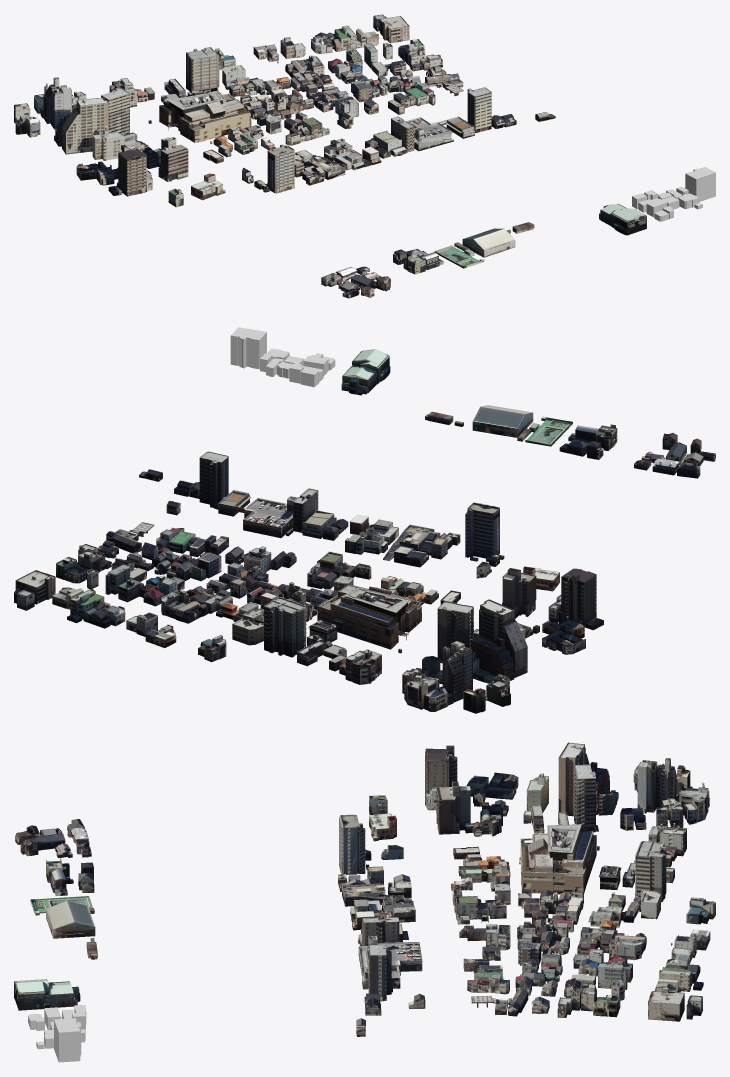
Rendered from lod3-station-6-2-packed.glb.
3 views of the same model, one above another, from view 1: azimuth 30°, elevation 25°; view 2: azimuth 150°, elevation 25°; view 3: azimuth 270°, elevation 25° (orthographic). The views are drawn at different scales.
Size of the model in its own units: 440 by 44.27 by 465.
Materials: 27 (26 with a texture image).
